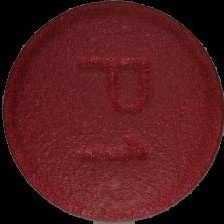0615-2519: (0, 0, 224, 224)
